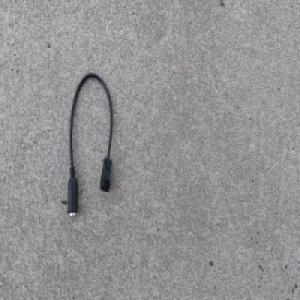Wire: (66, 71, 114, 220)
